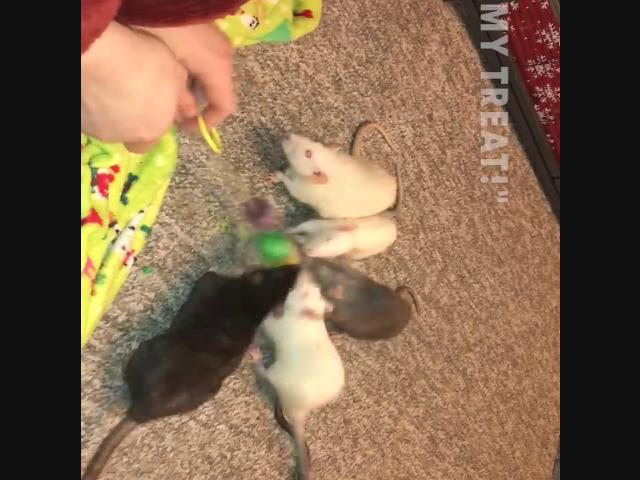Tikus: (80, 265, 298, 480), (257, 269, 346, 480), (271, 120, 398, 216), (311, 258, 418, 344), (276, 218, 400, 258)
